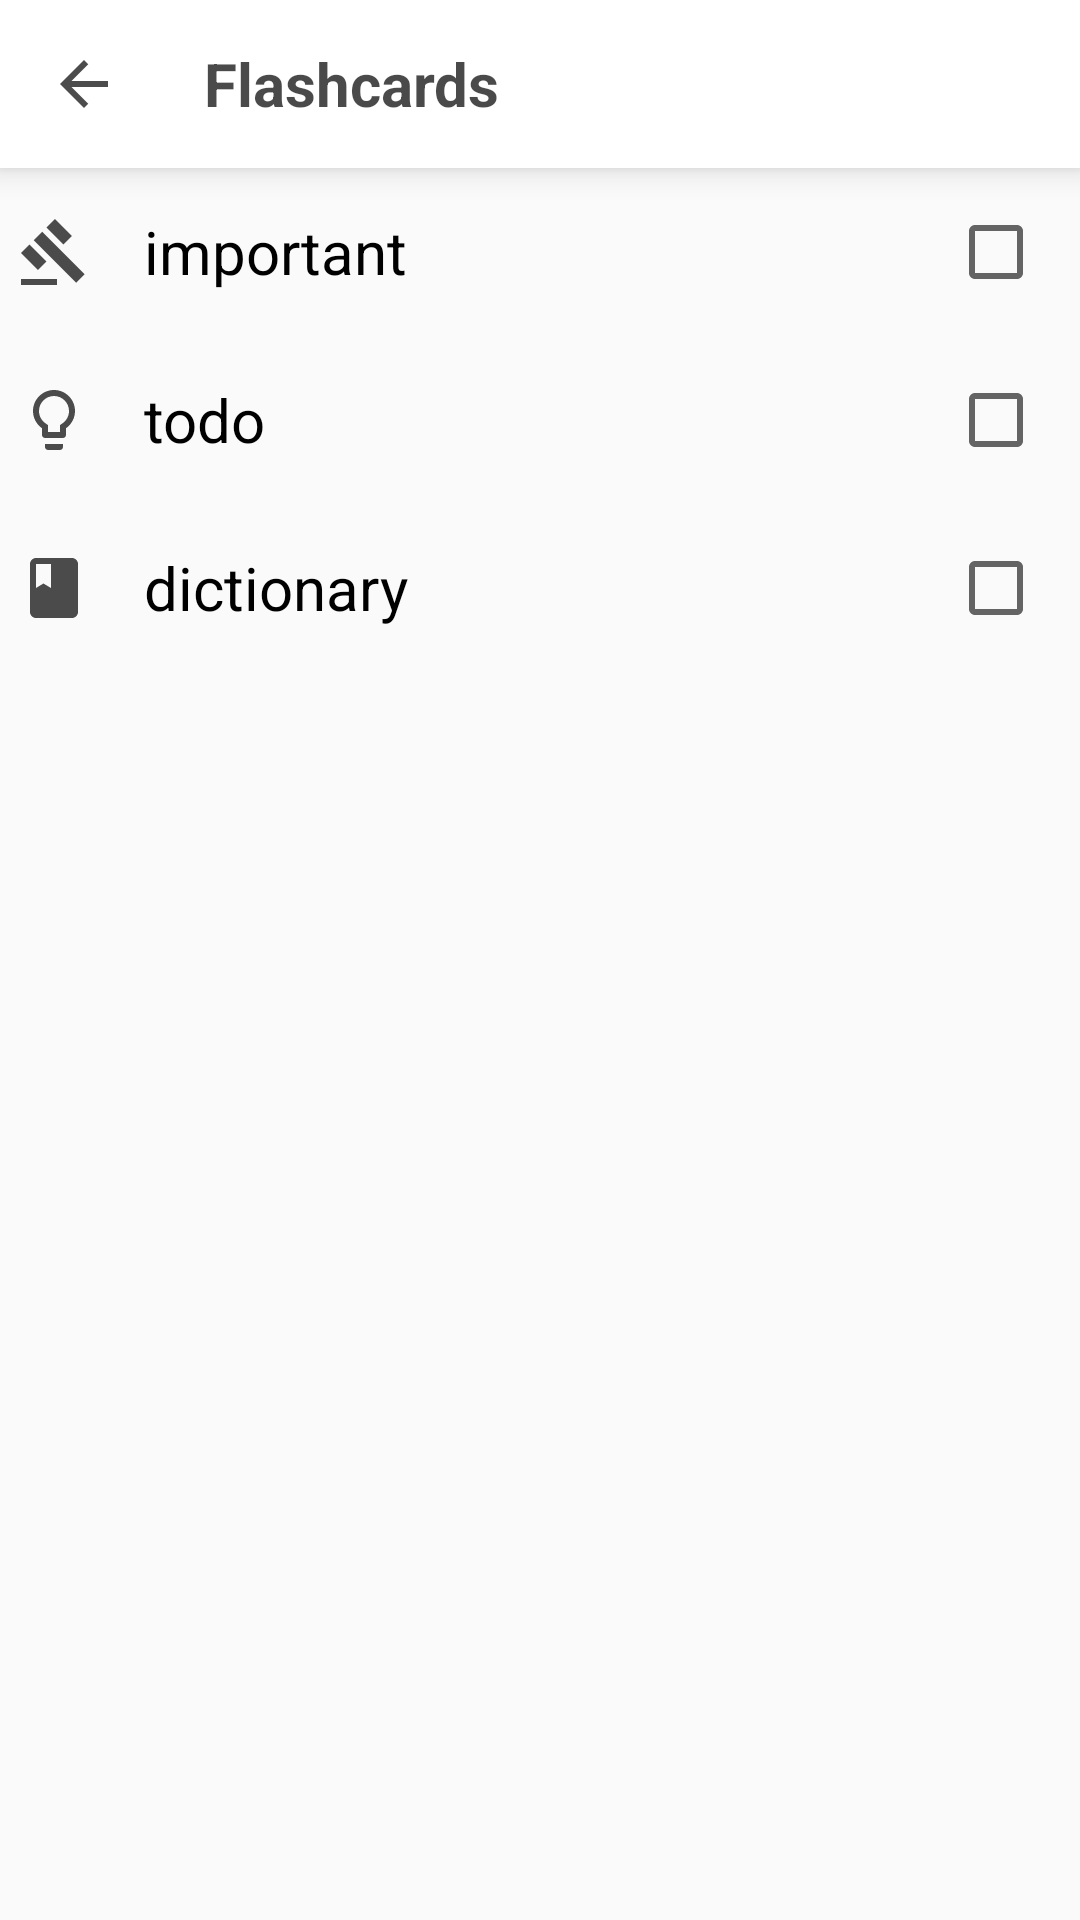

Where icons sit on this 1080*1920 app screen, as (x1, y1, x2, y2):
arrow back: (60, 60, 108, 108)
